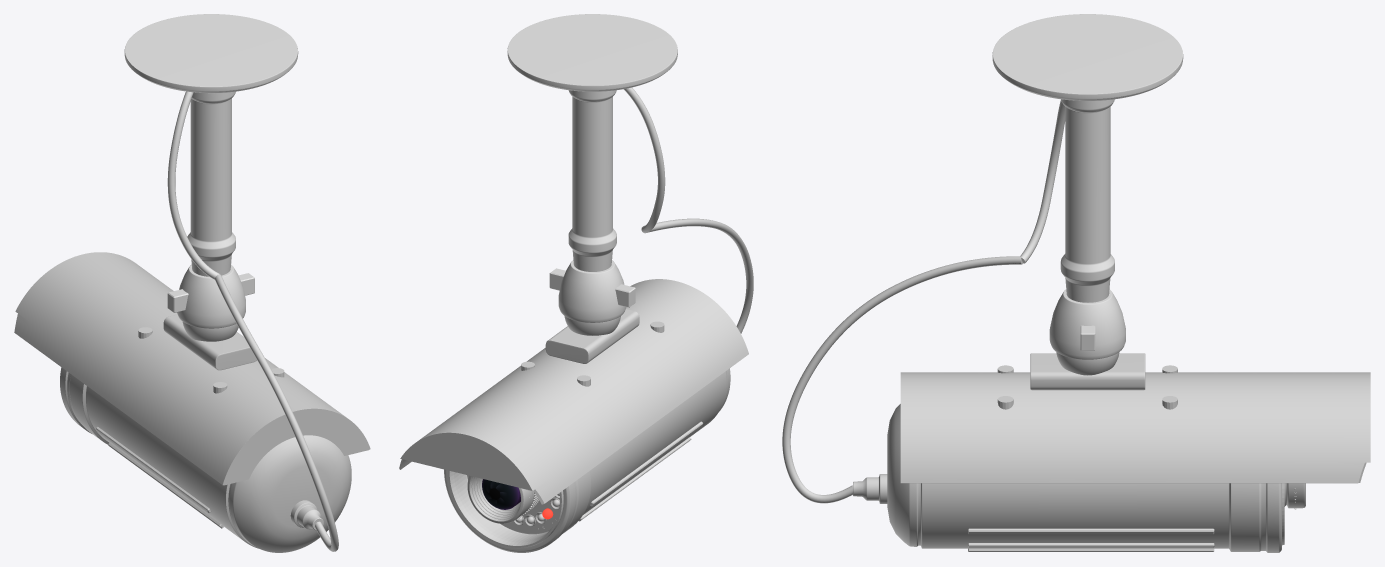
Rendered from camera.fbx.
3 views of the same model, side by side, from view 1: azimuth 30°, elevation 25°; view 2: azimuth 150°, elevation 25°; view 3: azimuth 270°, elevation 25° (orthographic). The views are drawn at different scales.
Parts seen in each view (by area): view 1: head, bracket; view 2: head, bracket, lens; view 3: head, bracket.
Part boxes in pixels (x1,y1,x2,y2): head: (14,252,370,552); bracket: (124,14,298,328); head: (399,218,753,552); bracket: (507,14,677,322); lens: (482,479,520,509); head: (782,256,1370,552); bracket: (992,14,1183,359).
Size of the model in its own units: 0.116 by 0.3298 by 0.3579.
